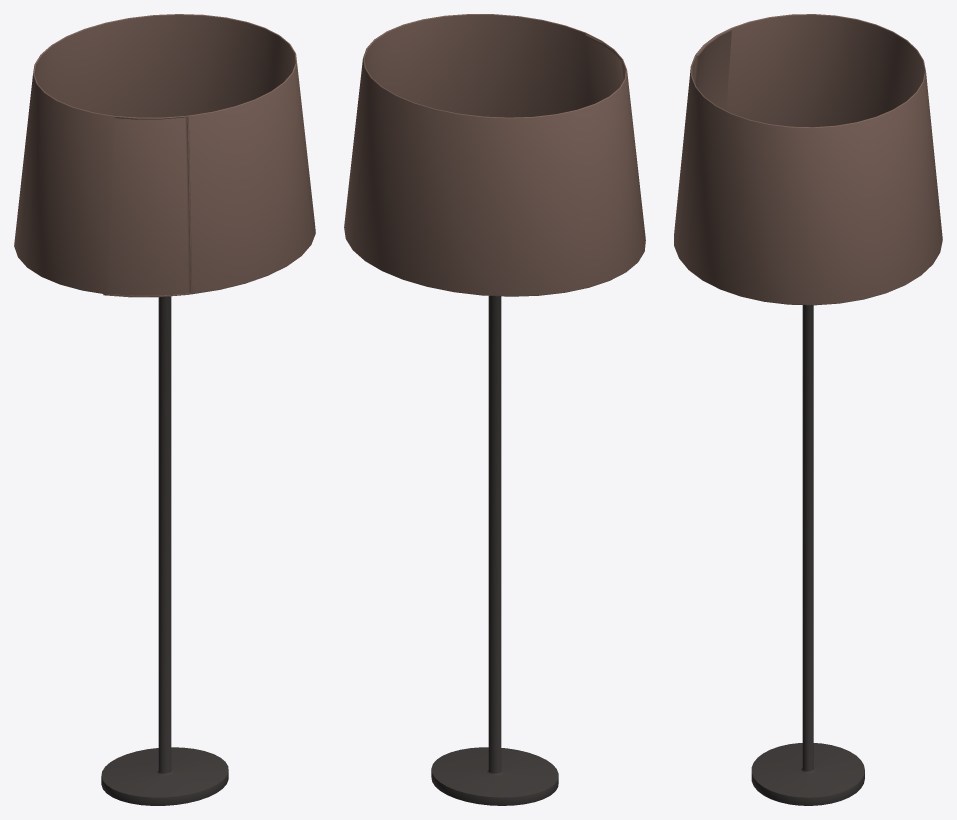
Rendered from lampara.obj.
3 renders of one model, left to right at view 1: azimuth 30°, elevation 25°; view 2: azimuth 150°, elevation 25°; view 3: azimuth 270°, elevation 25°, orthographic.
Visible parts, largest first — view 1: Lamp:Lightbulb_Lightbulb_Lightbulb1; view 2: Lamp:Lightbulb_Lightbulb_Lightbulb1; view 3: Lamp:Lightbulb_Lightbulb_Lightbulb1.
Boxes of the visible parts, <box> form: Lamp:Lightbulb_Lightbulb_Lightbulb1: <box>14,14,315,805</box>; Lamp:Lightbulb_Lightbulb_Lightbulb1: <box>344,14,645,805</box>; Lamp:Lightbulb_Lightbulb_Lightbulb1: <box>674,14,942,805</box>.
Size of the model in its own units: 0.765 by 1.94 by 0.6672.
3 materials, 2 textured.
